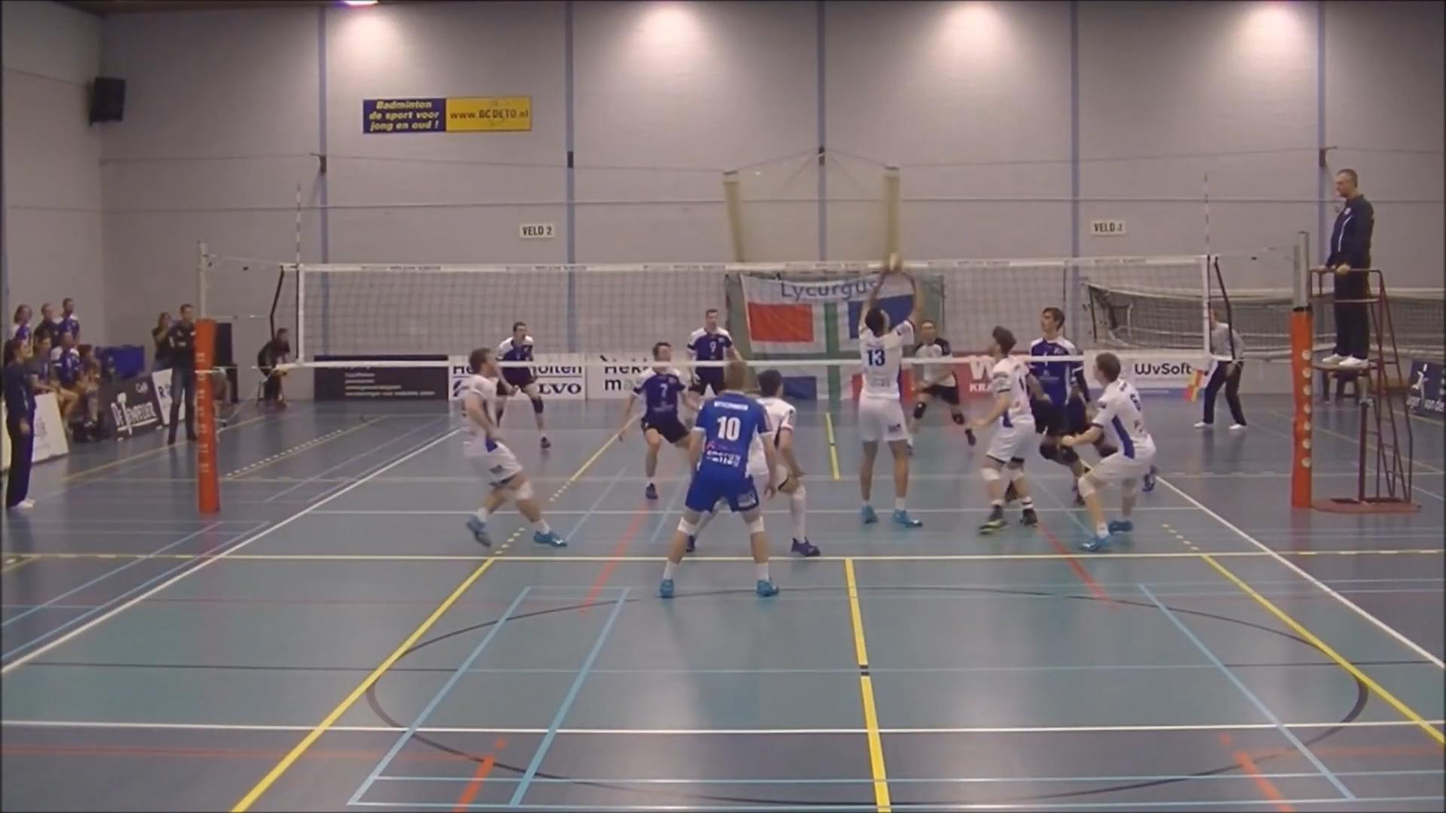alzata: (855, 252, 929, 531)
